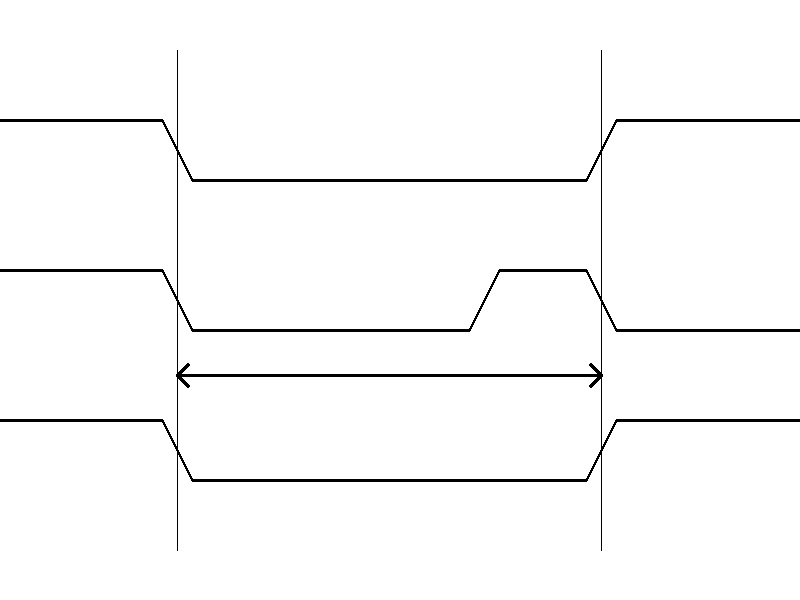double_arrow: (177, 360, 601, 390)
